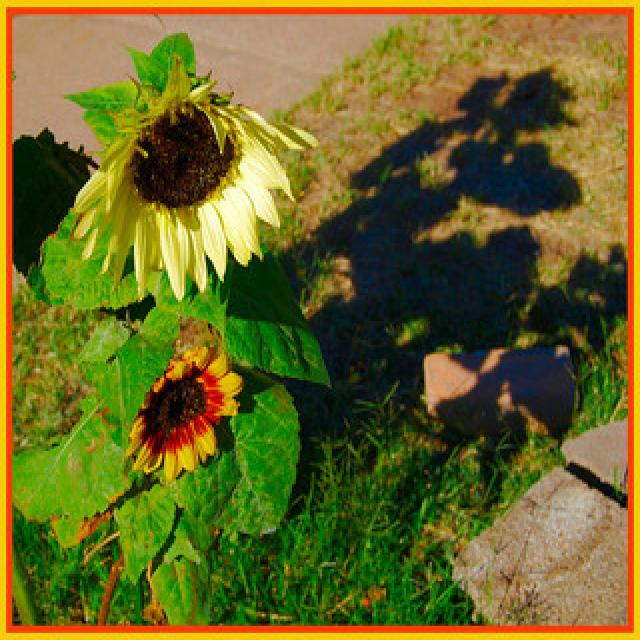sunflower: (70, 46, 318, 306), (119, 334, 239, 481)
